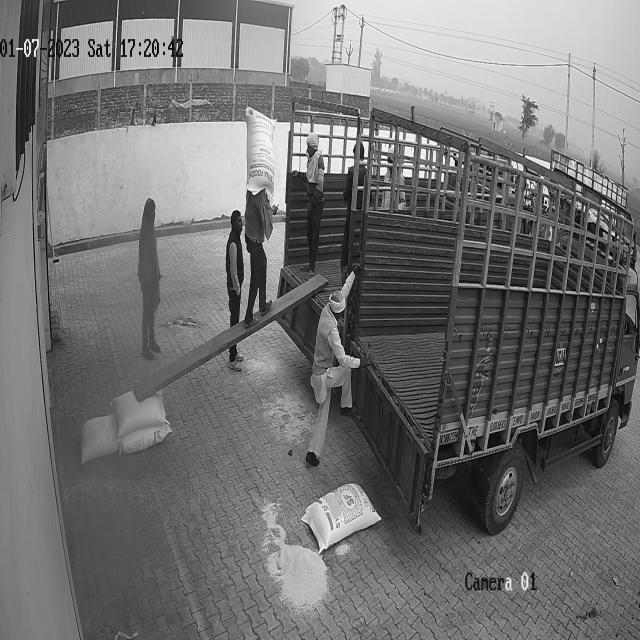sack: (302, 482, 380, 552), (246, 105, 276, 197), (110, 392, 165, 437), (79, 413, 116, 463), (121, 424, 171, 453)
